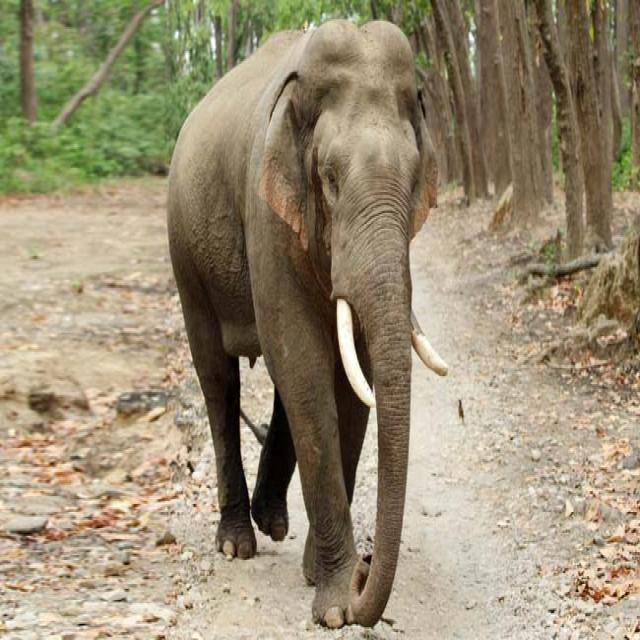Elephant: (161, 20, 440, 638)
